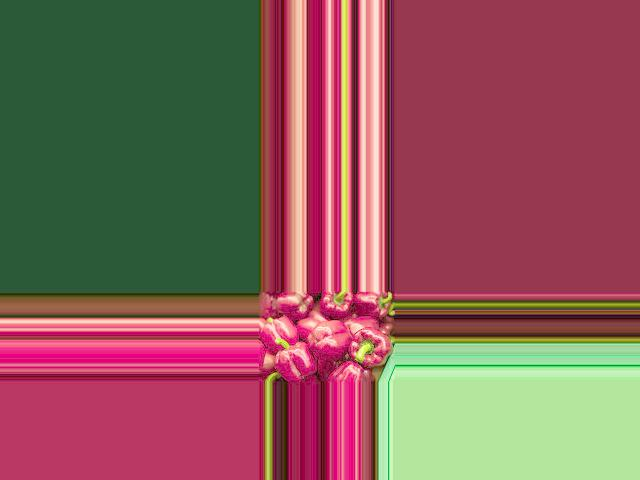bell_pepper: (355, 291, 392, 317)
